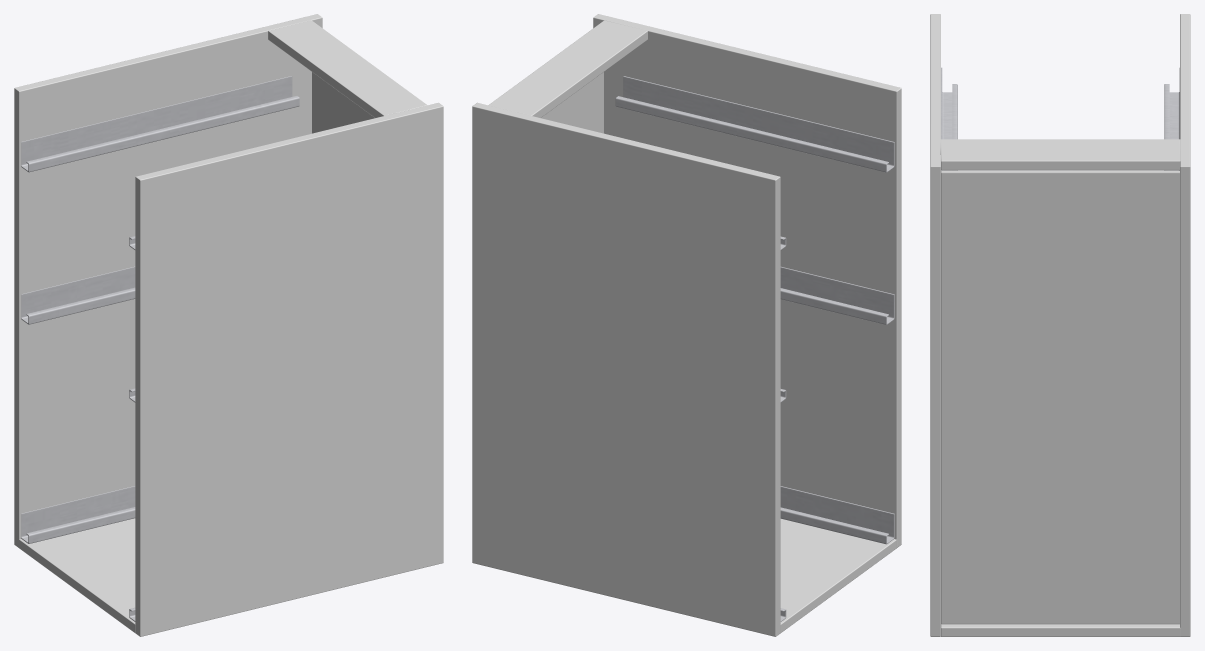
Rendered from SM_Kitchen_10_Base.dae.
3 renders of one model, left to right at view 1: azimuth 30°, elevation 25°; view 2: azimuth 150°, elevation 25°; view 3: azimuth 270°, elevation 25°, orthographic. The views are drawn at different scales.
Visible parts, largest first — view 1: SM_Kitchen_10_Base; view 2: SM_Kitchen_10_Base; view 3: SM_Kitchen_10_Base.
Part boxes in pixels (bbox=[...]): SM_Kitchen_10_Base: bbox=[14, 14, 443, 636]; SM_Kitchen_10_Base: bbox=[472, 14, 901, 636]; SM_Kitchen_10_Base: bbox=[930, 14, 1190, 636].
Size of the model in its own units: 0.5549 by 0.3996 by 0.798.
Materials: 2 (2 with a texture image).
